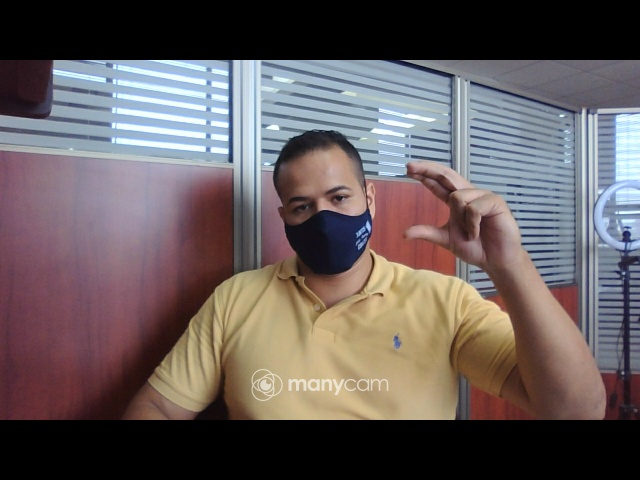No: (403, 157, 535, 270)
